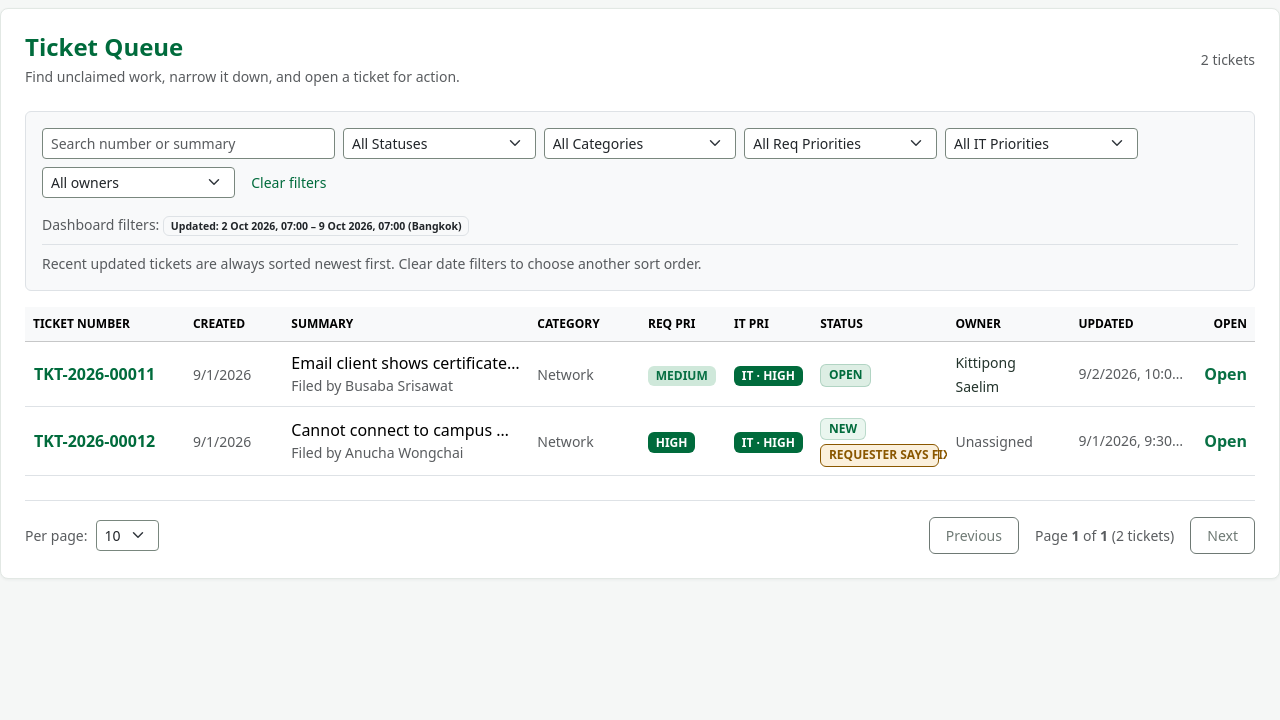
Scenario: StaffTicketQueue wiring (C-03, AC-08) › locks sorting to newest-first while a recent-date filter is active
Check: the field labelled "Sort by:" is not shown
Check: the field labelled "Sort order" is not shown
Click the button "Clear filters". click: click(289, 182)
box: [243, 168, 335, 197]
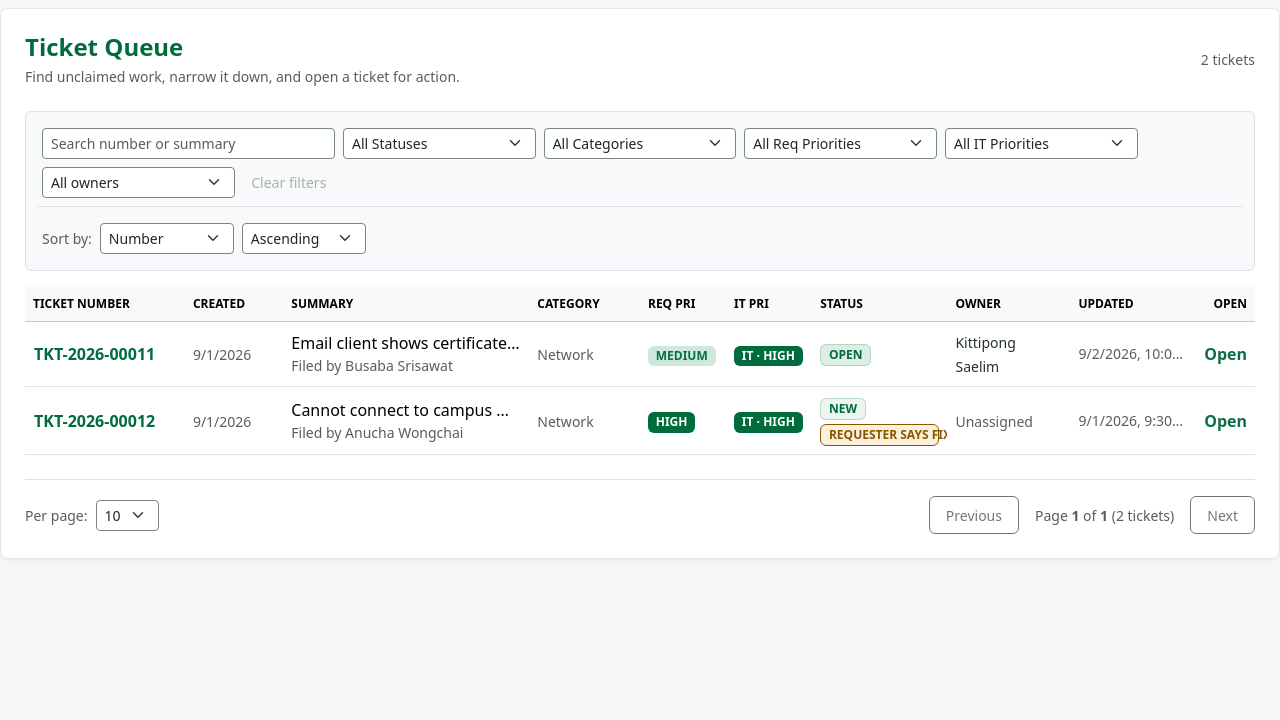
Check: the dropdown labelled "Sort by:" is enabled, box [100, 223, 234, 254]
Check: the dropdown named "Sort order" next to "Sort by:" is enabled, box [242, 223, 366, 254]
Check: the dropdown labelled "Sort by:" shows "Number", box [100, 223, 234, 254]
